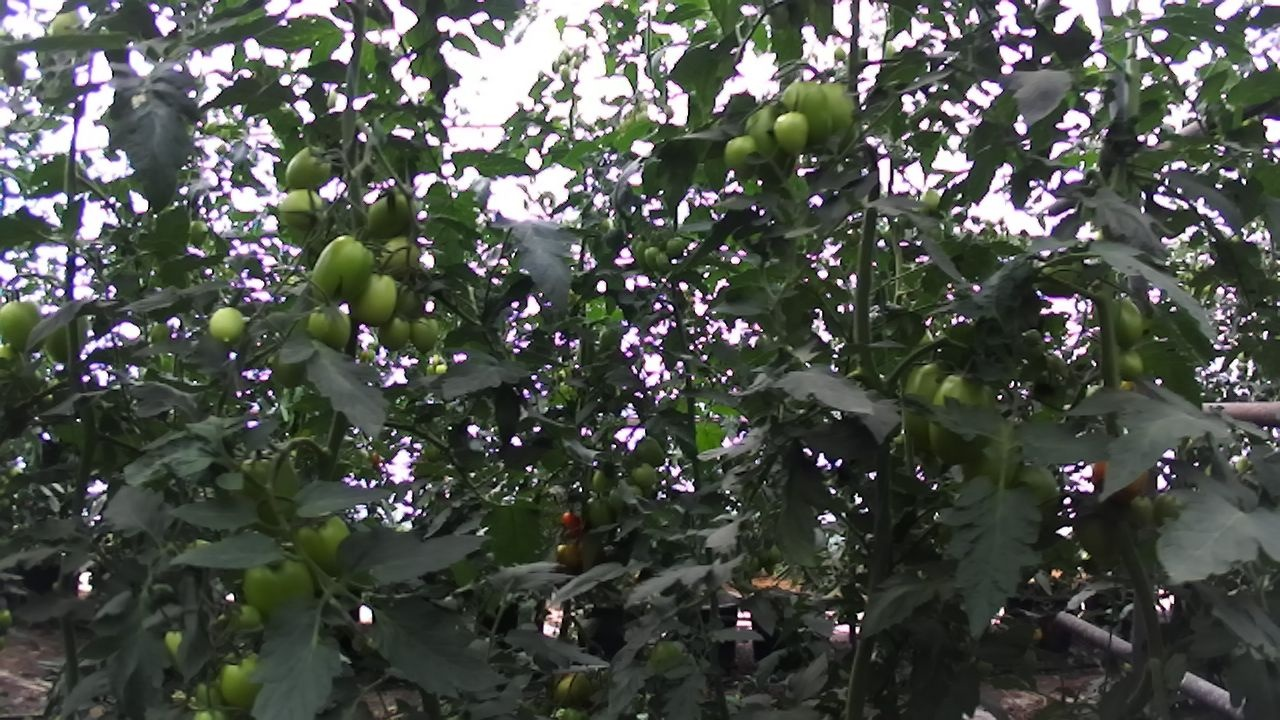tomato: (230, 531, 332, 640), (890, 343, 969, 468), (298, 220, 392, 322), (277, 495, 372, 595), (923, 360, 1003, 474), (230, 448, 313, 535), (208, 637, 290, 720), (774, 70, 840, 161), (739, 93, 801, 188), (357, 170, 429, 250), (0, 286, 66, 370), (1008, 454, 1071, 536), (342, 264, 409, 336), (815, 73, 871, 157), (37, 294, 96, 373), (637, 626, 706, 693), (297, 292, 365, 359), (273, 179, 345, 241), (368, 222, 431, 290), (279, 133, 343, 199), (1099, 287, 1153, 357), (716, 125, 775, 186), (35, 0, 96, 58), (201, 297, 255, 355), (768, 103, 818, 164), (544, 661, 602, 712), (1069, 511, 1122, 565), (371, 307, 419, 359), (401, 306, 448, 359), (1108, 339, 1153, 390), (627, 428, 671, 472), (582, 491, 618, 540), (585, 460, 629, 499), (1122, 490, 1160, 535), (1148, 490, 1192, 528), (550, 537, 588, 576), (145, 315, 179, 356), (626, 456, 663, 493), (917, 181, 948, 217), (185, 216, 213, 252), (557, 504, 587, 537), (602, 484, 630, 515), (662, 234, 690, 263), (640, 242, 666, 273), (652, 250, 676, 275), (830, 43, 852, 65)
